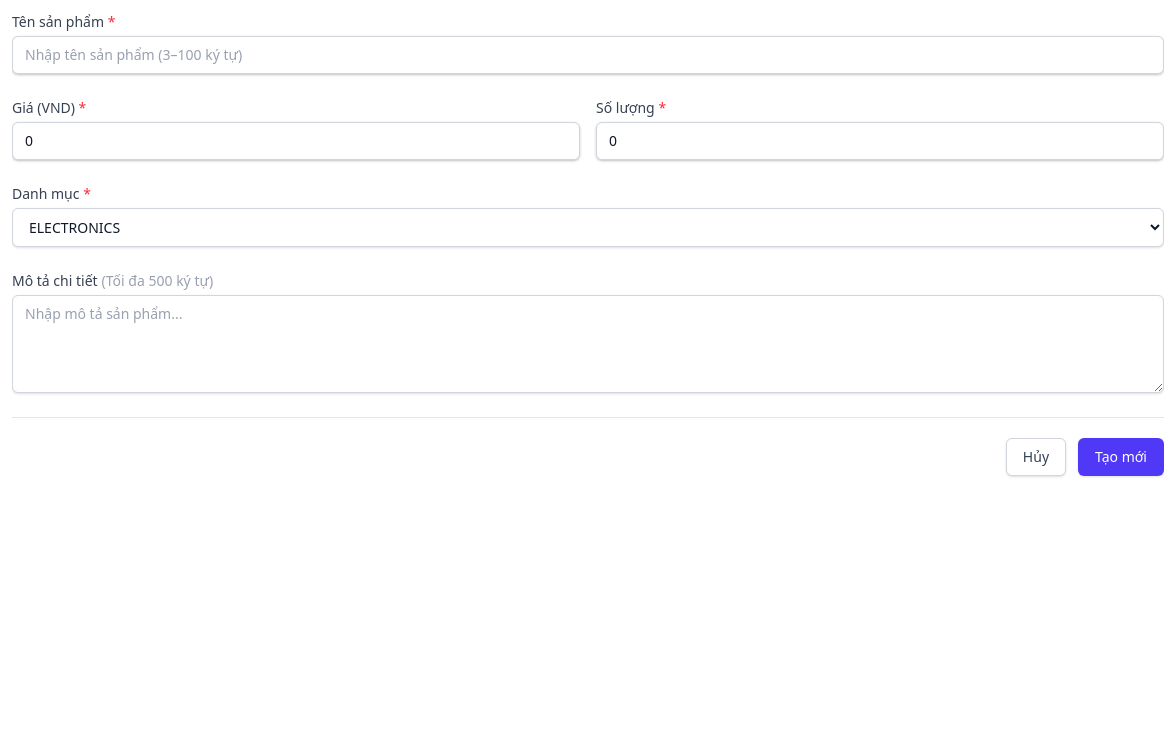
Test: ProductForm Component Tests › TC9: Quantity qua lon hien thi loi
Type "Valid Name" into the field with test id "product-name". click: [588, 55]
box: [12,36,1164,74]
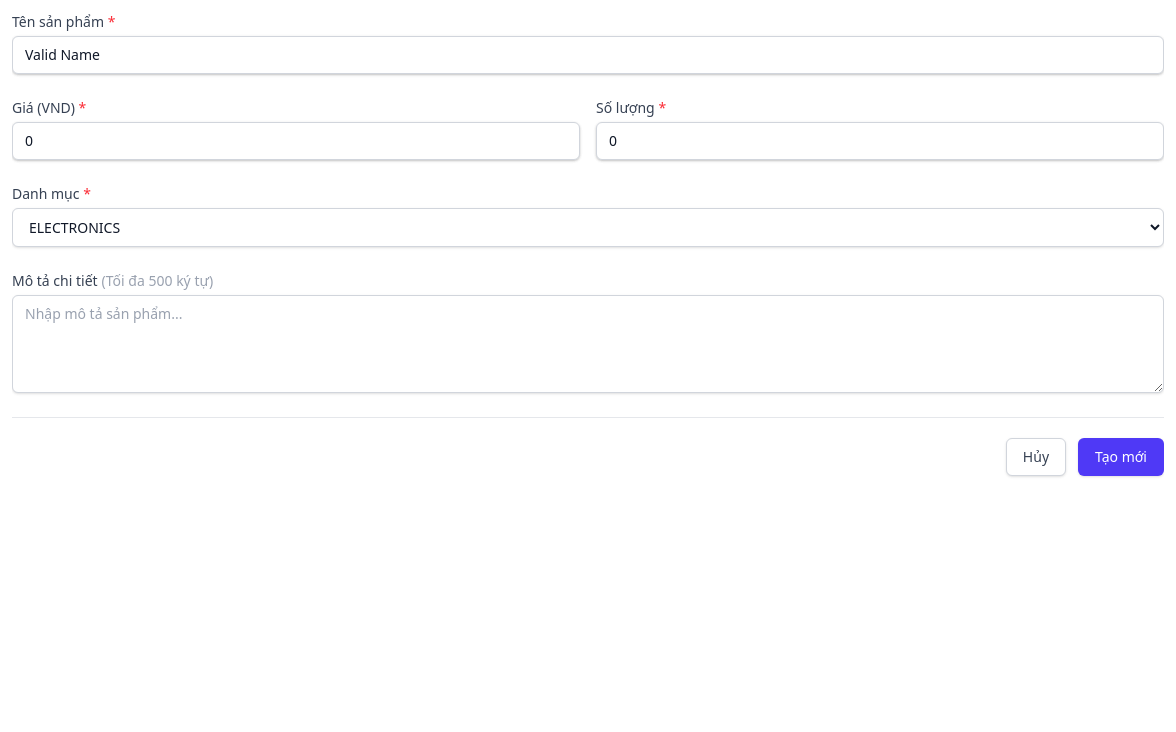
Type "1000" into the number field with test id "product-price". click: [296, 141]
box: [12,122,580,160]
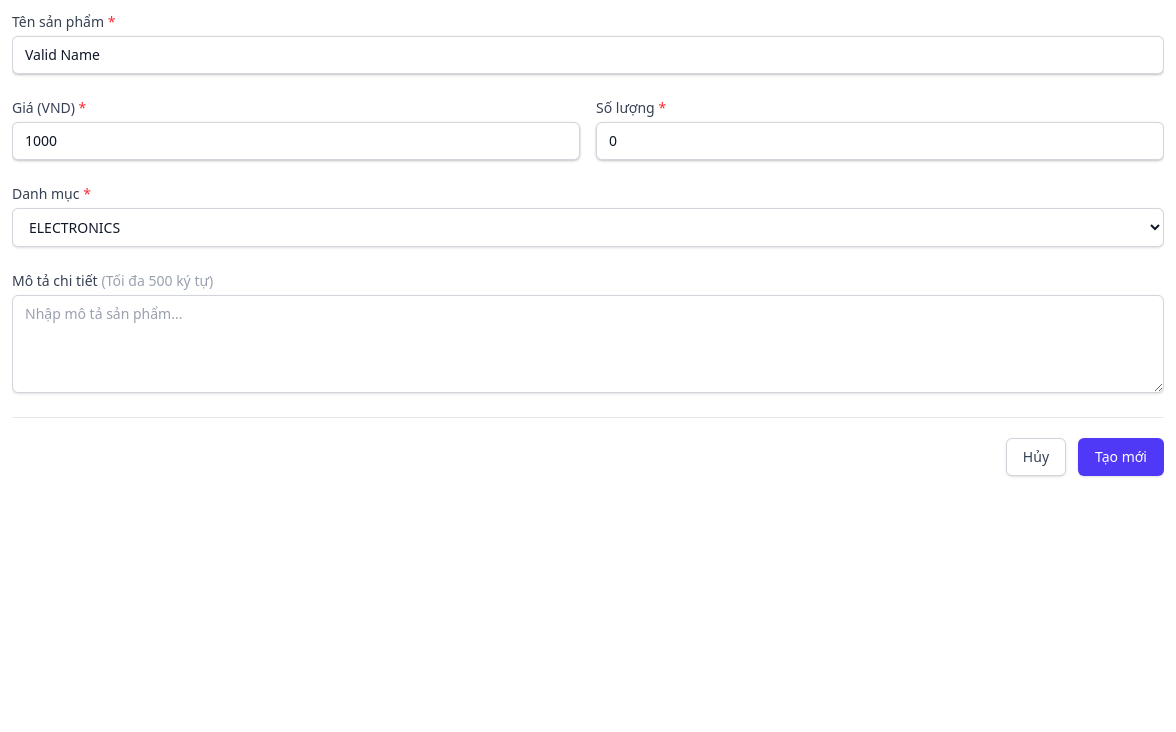
Type "100000" into the number field with test id "product-quantity". click: [880, 141]
box: [596,122,1164,160]
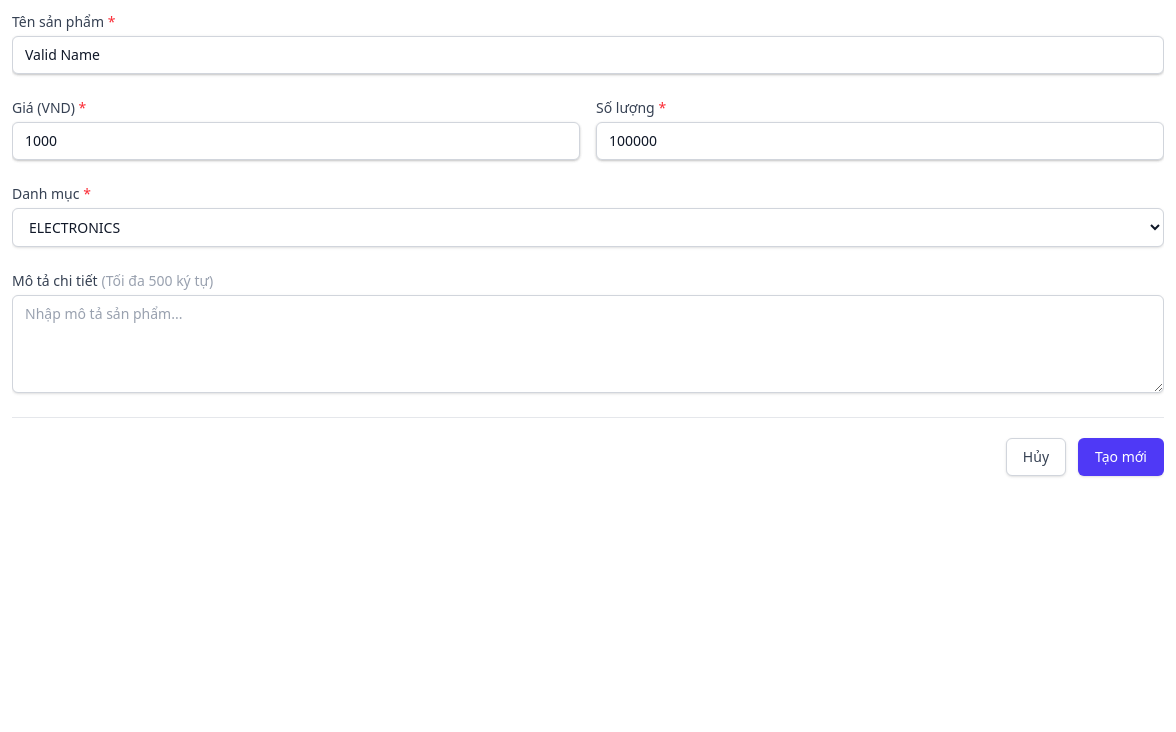
Click the button with test id "submit-button". click: [1121, 457]
box: [1078,438,1164,476]
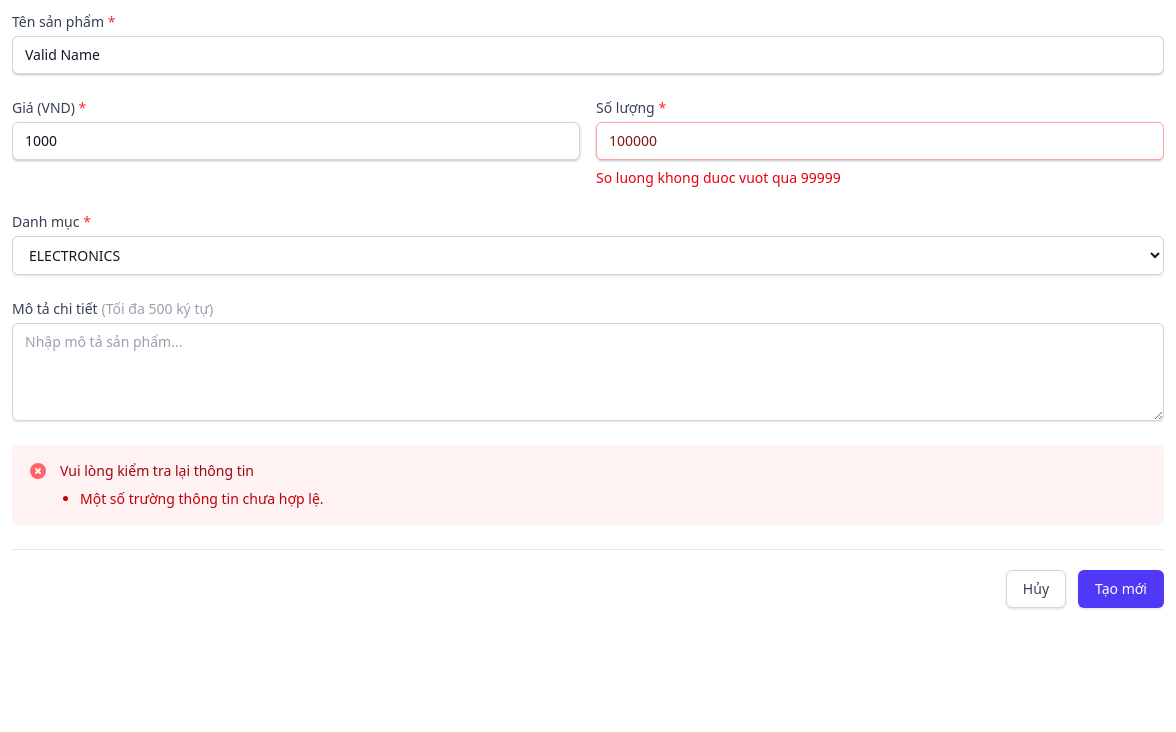
Result: the text with test id "error-quantity" shows "khong duoc vuot qua 99999" at [596,168,841,187]
